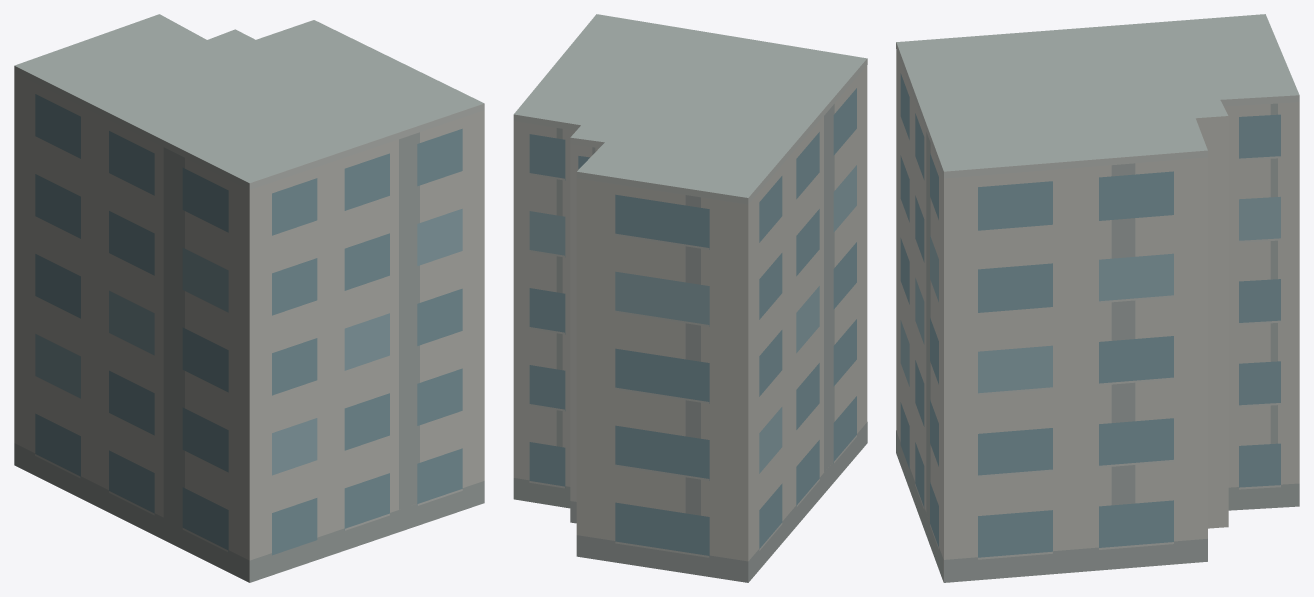
The model's file is survey-upis-32569021.glb.
3 renders of one model, left to right at view 1: azimuth 30°, elevation 25°; view 2: azimuth 150°, elevation 25°; view 3: azimuth 270°, elevation 25°, orthographic. The views are drawn at different scales.
Parts seen in each view (by area): view 1: survey-upis-32569021.tmp; view 2: survey-upis-32569021.tmp; view 3: survey-upis-32569021.tmp.
Part boxes in pixels (x1,y1,x2,y2): survey-upis-32569021.tmp: (14, 14, 484, 582); survey-upis-32569021.tmp: (513, 14, 867, 582); survey-upis-32569021.tmp: (896, 14, 1299, 582).
Size of the model in its own units: 11.73 by 14.25 by 12.68.
